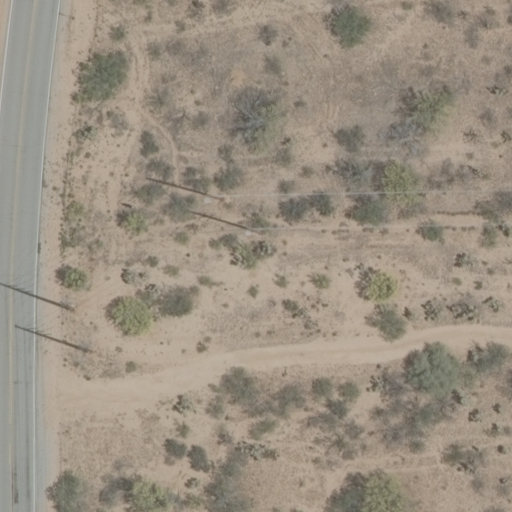DT: (3, 278, 73, 312), (144, 176, 224, 203), (16, 325, 87, 352), (185, 207, 249, 230)
